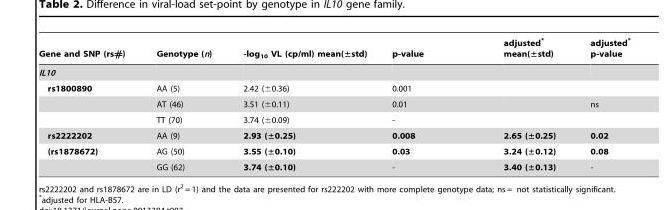table: (37, 36, 629, 171)
table column: (226, 36, 378, 171), (462, 36, 572, 171), (37, 36, 140, 171), (140, 36, 226, 171), (378, 36, 462, 171), (572, 36, 629, 171)
table column header: (37, 36, 629, 63)
table projected row header: (37, 63, 629, 80)
table row: (37, 36, 629, 63), (37, 63, 629, 80), (37, 95, 629, 111), (37, 111, 629, 127), (37, 127, 629, 143), (37, 80, 629, 95), (37, 143, 629, 158), (37, 158, 629, 171)
table spanning cell: (37, 80, 140, 127), (37, 143, 140, 171)
